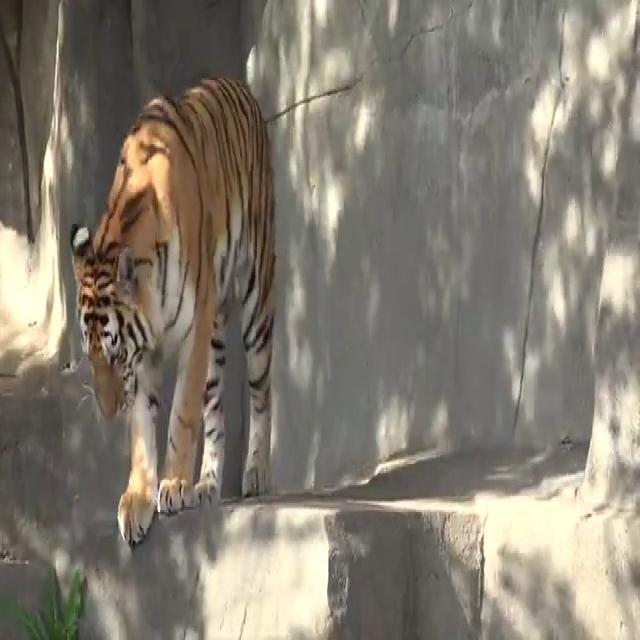tiger: (70, 73, 276, 548)
